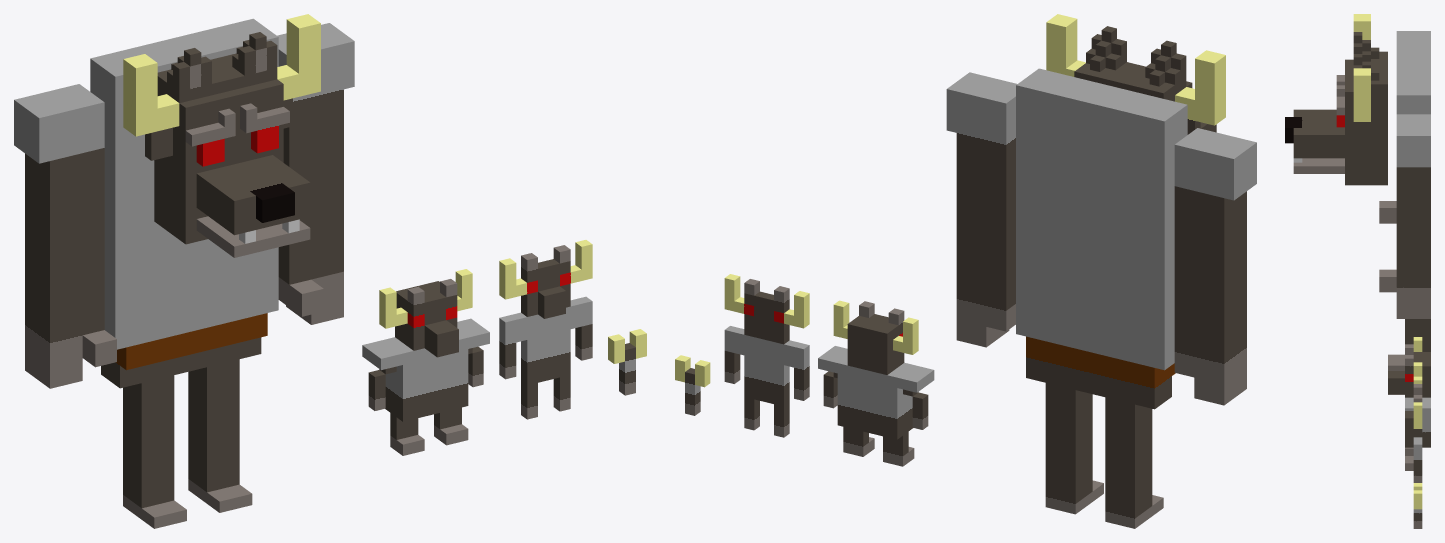
File: Enemies_Trolloc_Wolf.glb
3 renders of one model, left to right at view 1: azimuth 30°, elevation 25°; view 2: azimuth 150°, elevation 25°; view 3: azimuth 270°, elevation 25°, orthographic. The views are drawn at different scales.
Visible parts, largest first — view 1: pl0; view 2: pl0; view 3: pl0.
Boxes of the visible parts, x1,y1,x2,y2 form: pl0: [14, 14, 646, 528]; pl0: [675, 14, 1256, 528]; pl0: [1285, 14, 1430, 528].
Size of the model in its own units: 57 by 43 by 17.
Materials: 1 (1 with a texture image).
